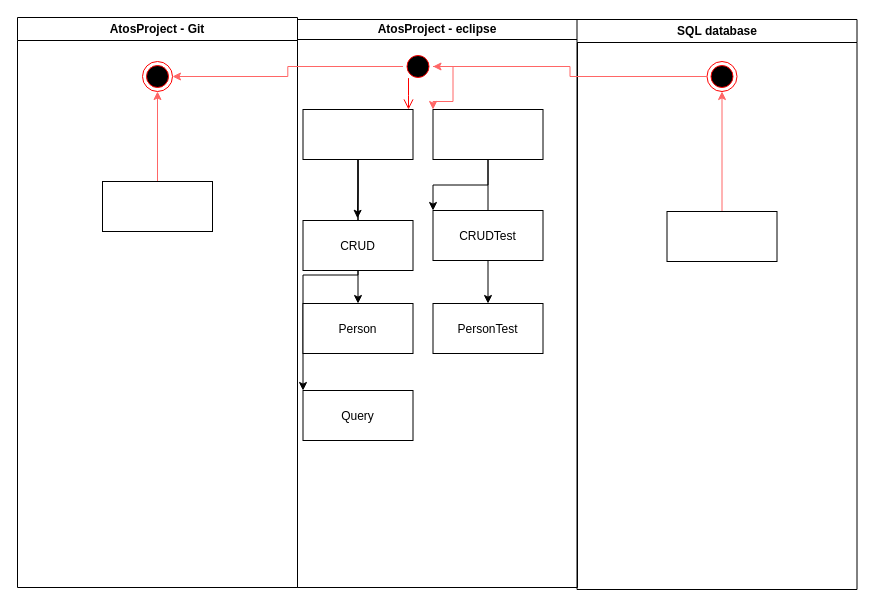
Some shapes in this 875 by 607 pixel diagram are drawn without their labels. Each missing label, with the centre of its shape:
Amazon Database: the point at 721,236
Remote project: the point at 157,206
src/main/java: the point at 357,134
src/test/java: the point at 487,134
